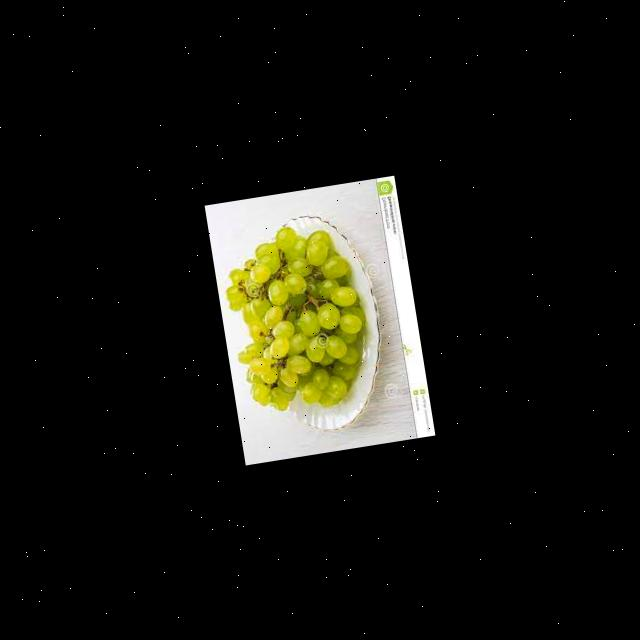grape: (215, 216, 377, 420)
